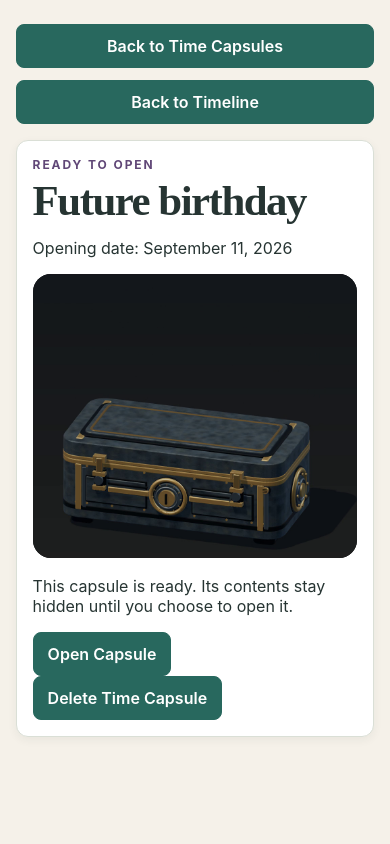
uses the restrained reduced-motion vault and leaves blocked or disabled sound silent
Click the button "Open Capsule" at point(102, 654), box [33,632,171,676]
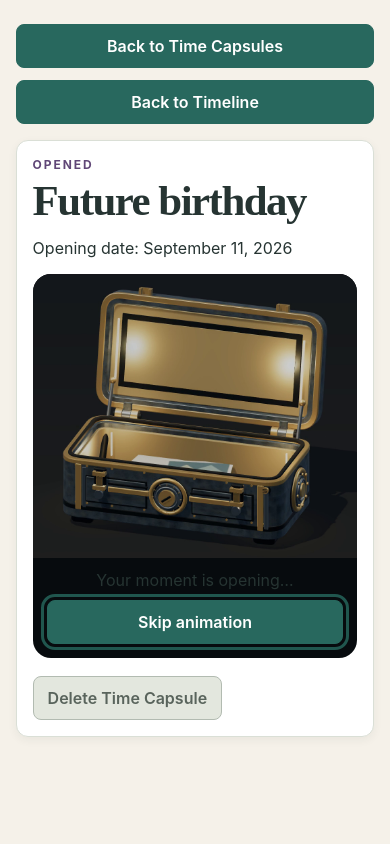
Click the button "Skip animation" at point(195, 622), box [47,600,343,644]
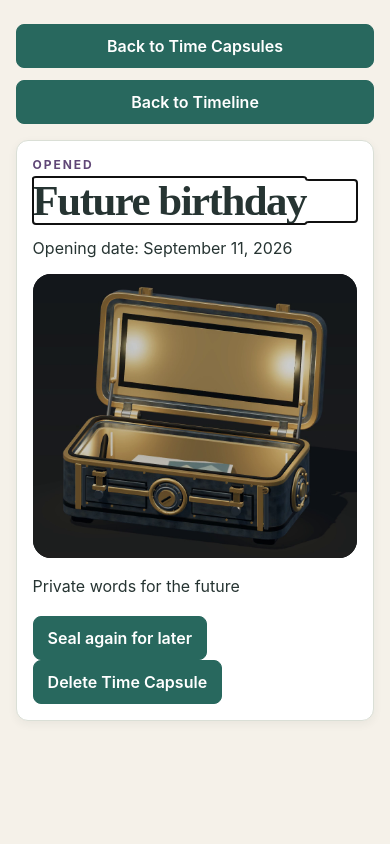
Expected: the text "Private words for the future" is shown, [33,576,240,596]
